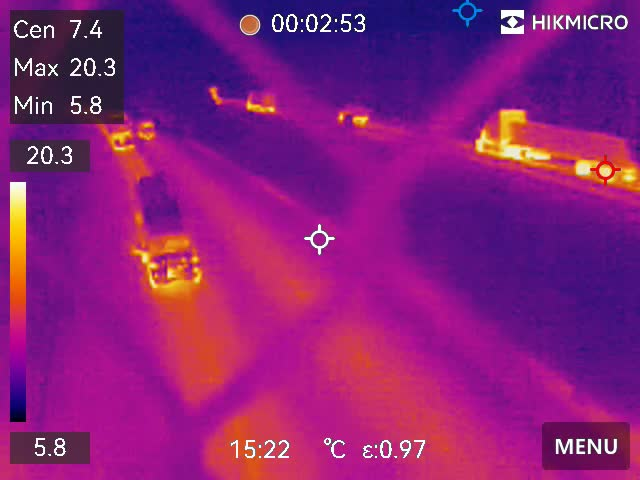heavyTruck: (475, 103, 640, 180), (132, 172, 211, 303), (243, 87, 286, 116)
